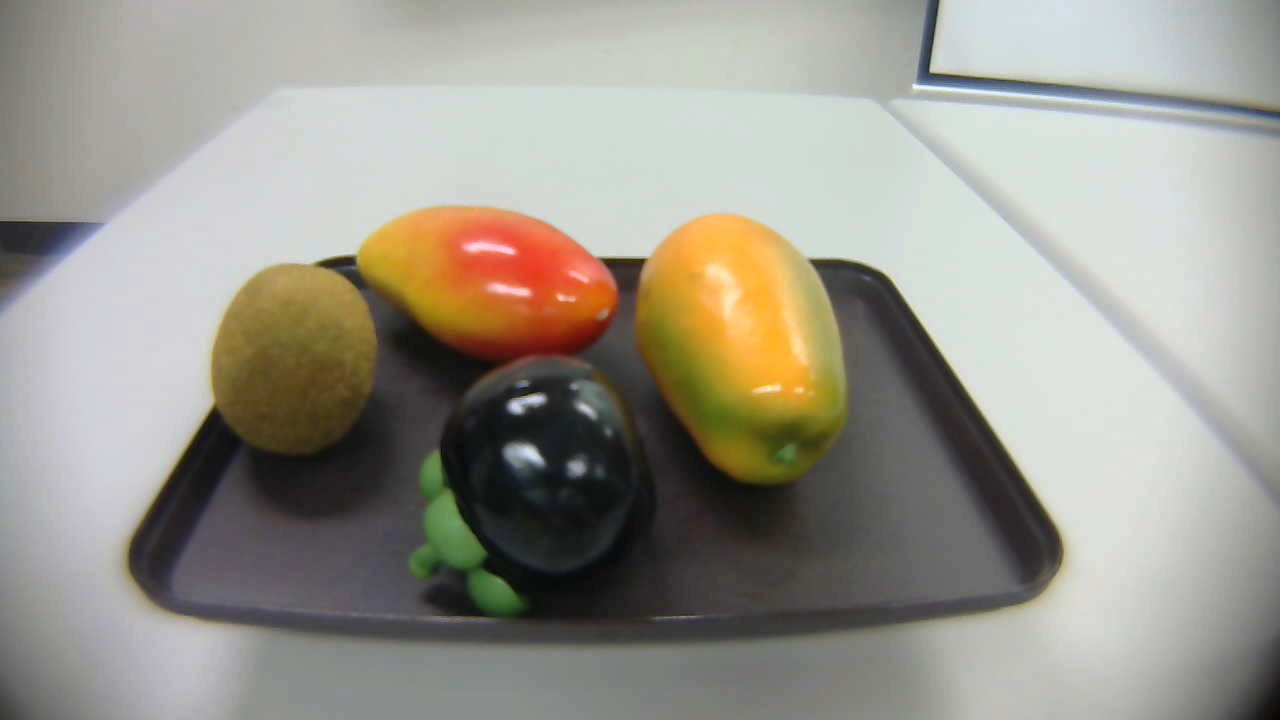kiwi fruit: (210, 258, 383, 461)
mangosteen: (420, 357, 666, 632)
papya: (635, 209, 857, 496)
red mango: (347, 194, 625, 374)
